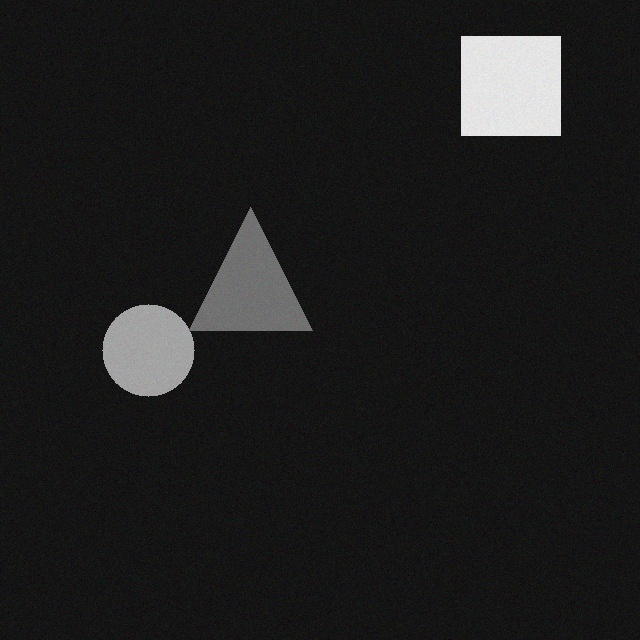circle: (92, 302, 184, 394)
square: (451, 34, 550, 133)
triangle: (179, 205, 302, 328)
